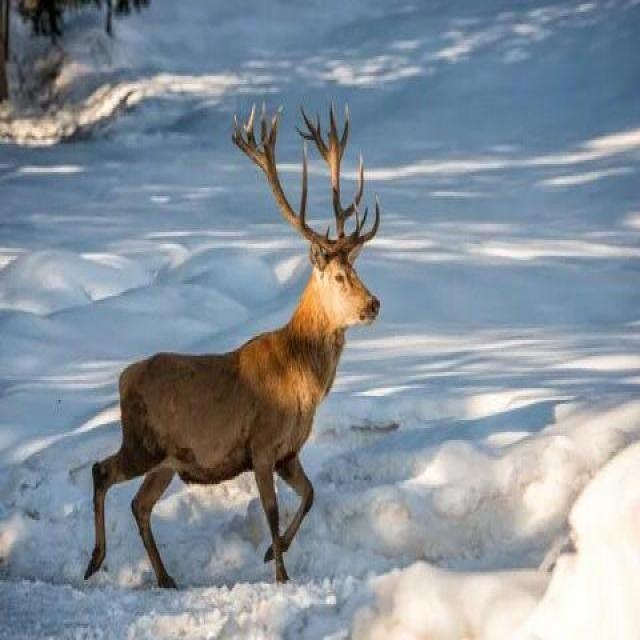deer: (78, 132, 448, 583)
